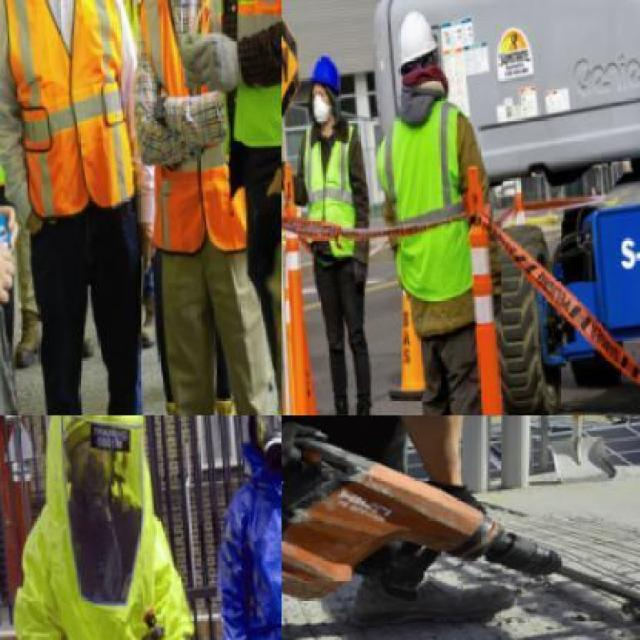Vest: (0, 0, 138, 235), (131, 0, 246, 266), (26, 506, 206, 639), (371, 103, 480, 317), (205, 0, 280, 186), (294, 120, 364, 274)
